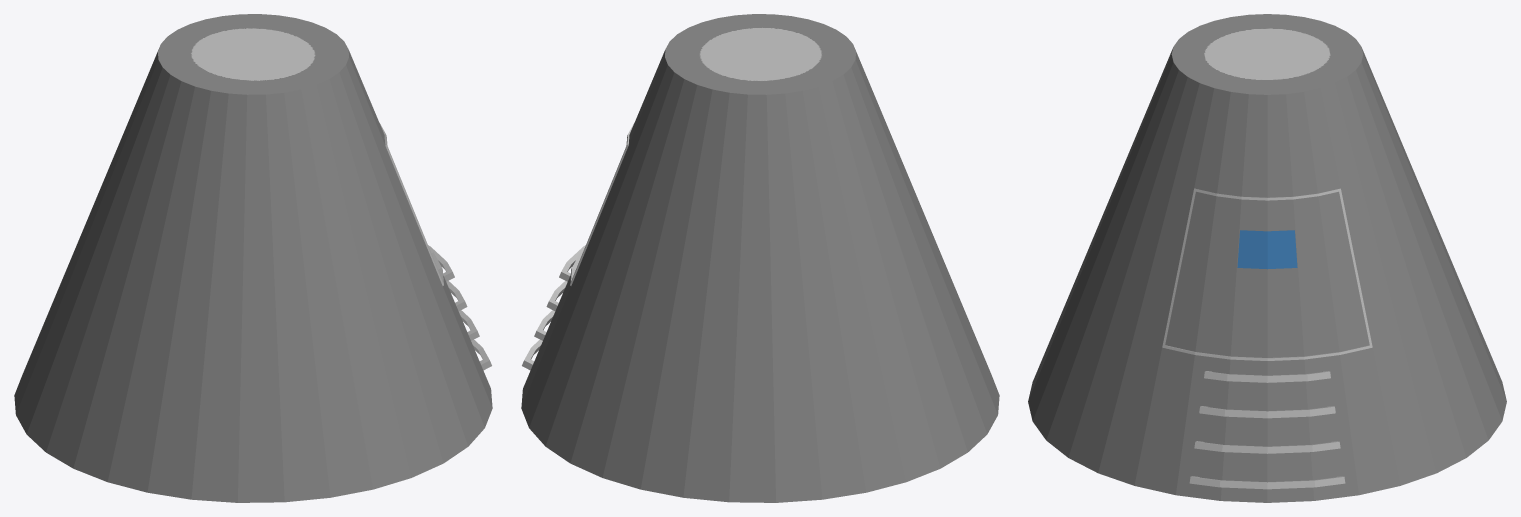
File: 25manned.fbx
The picture shows the model from 3 angles, left to right: view 1: azimuth 30°, elevation 25°; view 2: azimuth 150°, elevation 25°; view 3: azimuth 270°, elevation 25°; orthographic projection.
Visible parts, largest first — view 1: Cylinder; view 2: Cylinder; view 3: Cylinder.
Boxes of the visible parts, <box> form: Cylinder: <box>14,14,492,502</box>; Cylinder: <box>521,14,999,502</box>; Cylinder: <box>1028,14,1506,502</box>.
Bounding box in the file's own units: 253 × 200 × 250.
